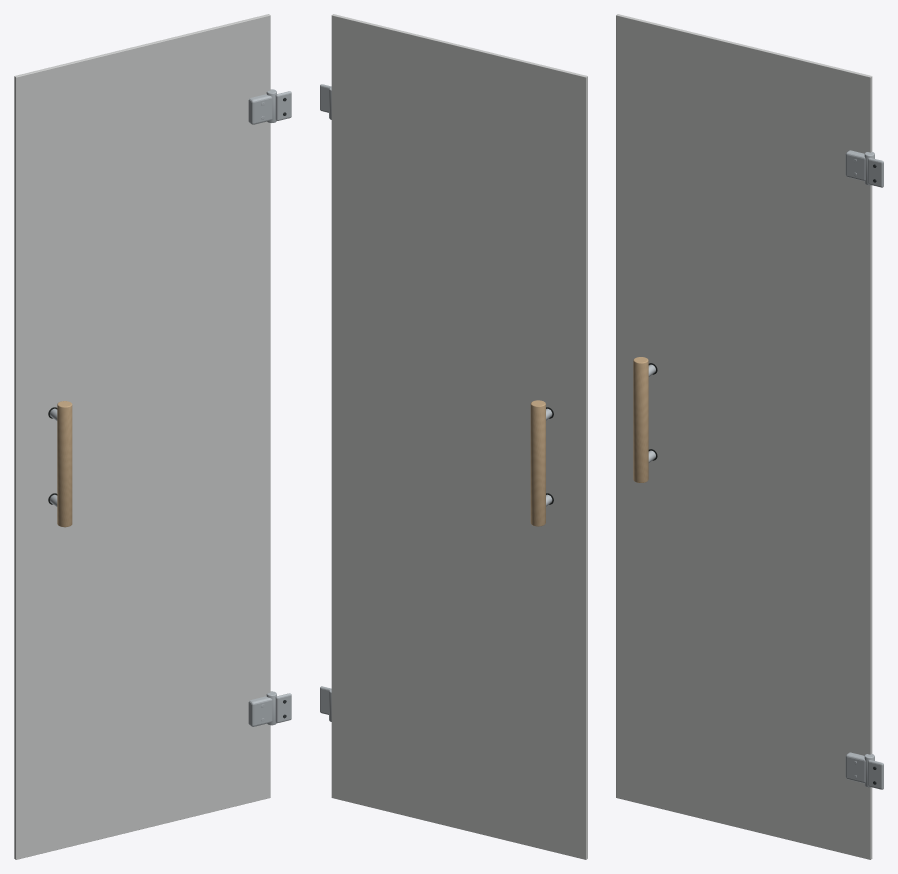
The model's file is door_right-hinge.glb.
3 renders of one model, left to right at view 1: azimuth 30°, elevation 25°; view 2: azimuth 150°, elevation 25°; view 3: azimuth 330°, elevation 25°, orthographic.
Parts seen in each view (by area): view 1: door_right-hinge_door_leaf, door_right-hinge_door_frame; view 2: door_right-hinge_door_leaf, door_right-hinge_door_frame; view 3: door_right-hinge_door_leaf, door_right-hinge_door_frame.
Boxes of the visible parts, box(x1,y1,x2,y2) form: door_right-hinge_door_leaf: box(14, 14, 272, 859); door_right-hinge_door_frame: box(266, 89, 291, 725); door_right-hinge_door_leaf: box(331, 14, 587, 859); door_right-hinge_door_frame: box(320, 84, 331, 721); door_right-hinge_door_leaf: box(616, 14, 872, 859); door_right-hinge_door_frame: box(864, 152, 883, 789).
Size of the model in its own units: 0.661 by 1.82 by 0.136.
5 materials, 1 textured.
